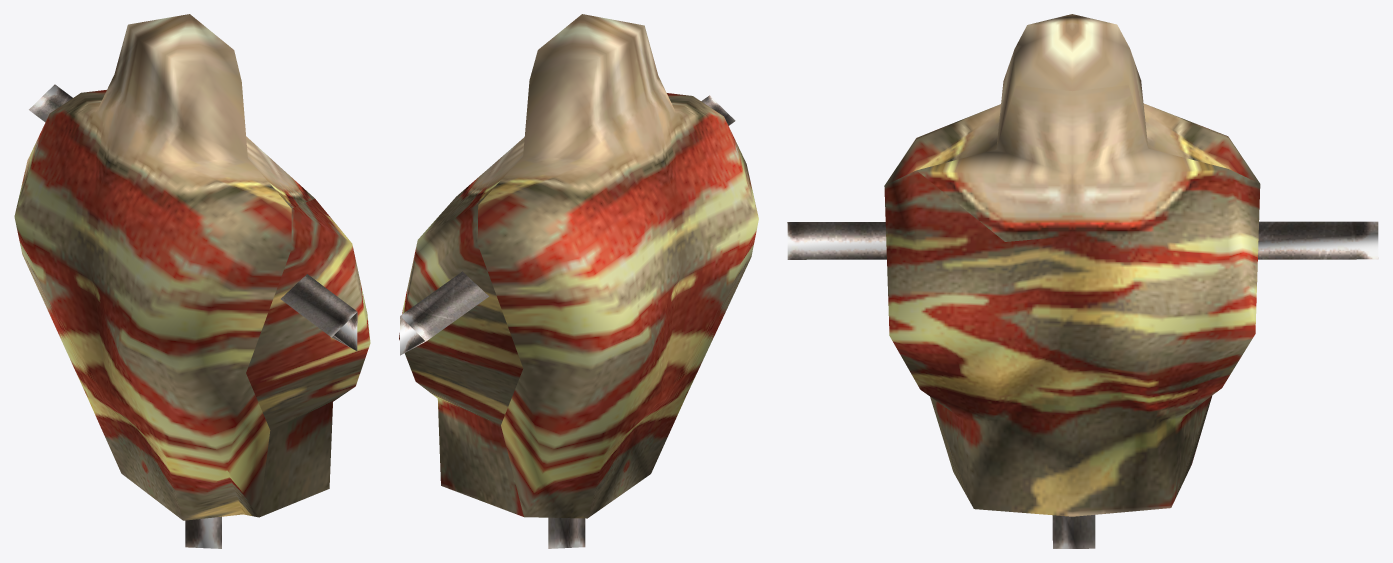
File: Robot01.Chest_no_gum3.fbx
3 views of the same model, side by side, from view 1: azimuth 30°, elevation 25°; view 2: azimuth 150°, elevation 25°; view 3: azimuth 270°, elevation 25° (orthographic). The views are drawn at different scales.
Visible parts, largest first — view 1: mesh_1334, mesh_1333; view 2: mesh_1334, mesh_1333; view 3: mesh_1334, mesh_1333.
Part boxes in pixels (box(x1,y1,x2,y2)): mesh_1334: box(14, 14, 370, 520); mesh_1333: box(29, 84, 357, 548); mesh_1334: box(399, 14, 758, 518); mesh_1333: box(400, 95, 735, 548); mesh_1334: box(884, 14, 1260, 516); mesh_1333: box(787, 221, 1378, 548).
Bounding box in the file's own units: 35.2 × 77.5 × 80.84.
